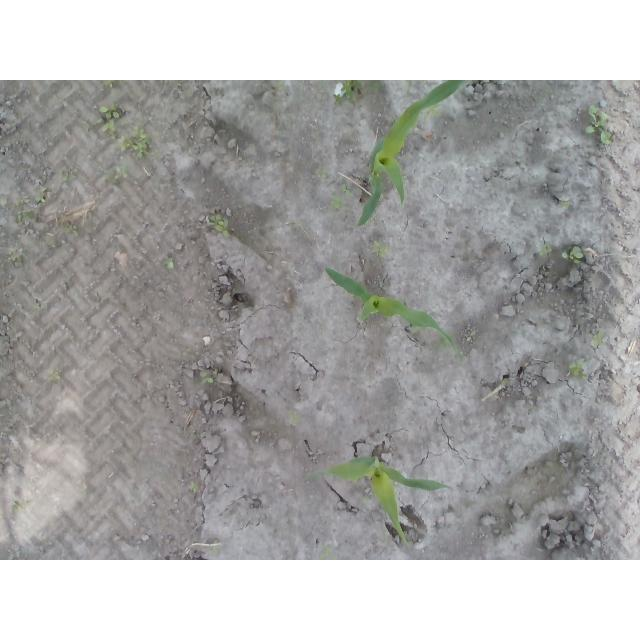Maize: (356, 80, 468, 230), (303, 454, 450, 546), (322, 266, 455, 346)
Weeds: (116, 126, 161, 161), (94, 94, 122, 144), (333, 80, 384, 106), (16, 186, 49, 226), (583, 104, 614, 145), (206, 214, 232, 241), (566, 351, 588, 382), (103, 157, 129, 182), (560, 243, 585, 269), (592, 327, 609, 350), (372, 238, 393, 256), (197, 366, 217, 384), (8, 246, 25, 266), (63, 223, 81, 240), (287, 410, 305, 427), (537, 240, 555, 257), (403, 81, 423, 96), (272, 80, 289, 97), (159, 256, 177, 272), (318, 544, 336, 560), (46, 368, 62, 384), (329, 194, 344, 211), (339, 180, 353, 196), (312, 166, 329, 179), (454, 350, 467, 367), (62, 168, 78, 181), (559, 195, 573, 209), (430, 104, 443, 117), (33, 303, 48, 313), (466, 330, 477, 342), (14, 503, 26, 514), (190, 480, 198, 496), (209, 545, 220, 556), (0, 192, 6, 208), (0, 431, 8, 441)
